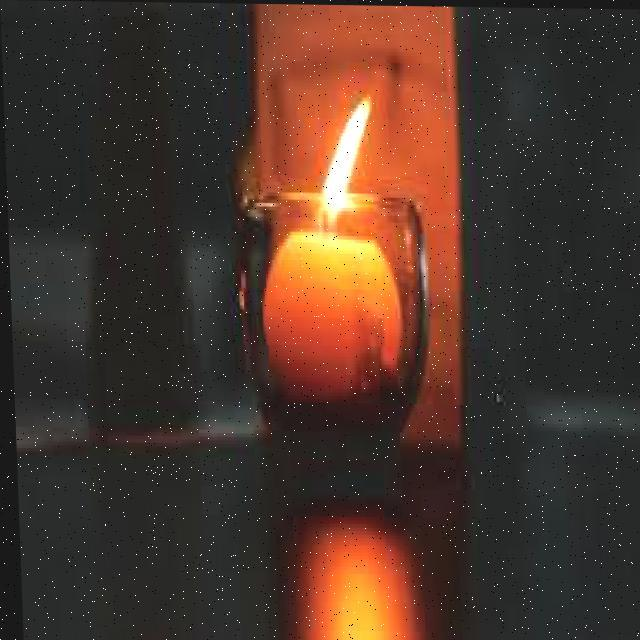Fire: (311, 85, 377, 228)
